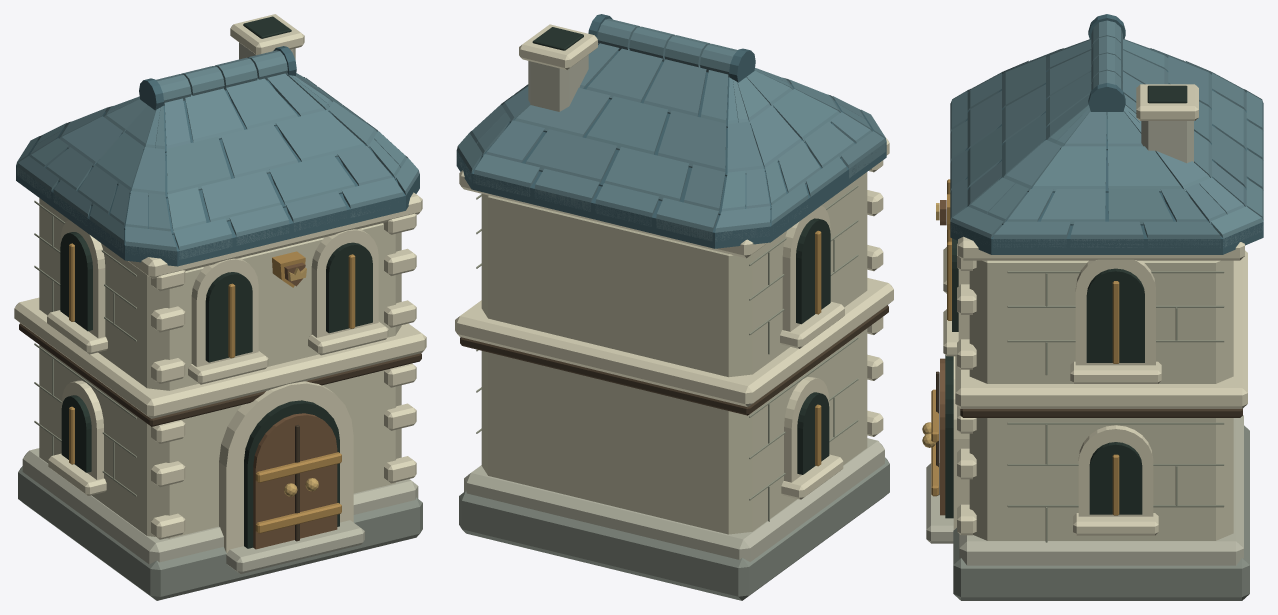
The model's file is house_2.glb.
3 views of the same model, side by side, from view 1: azimuth 30°, elevation 25°; view 2: azimuth 150°, elevation 25°; view 3: azimuth 270°, elevation 25° (orthographic). The views are drawn at different scales.
Visible parts, largest first — view 1: Stone, Roof, Timber, Metal; view 2: Stone, Roof, Timber, Metal; view 3: Stone, Roof, Timber, Metal.
Part boxes in pixels (x1,y1,x2,y2): Stone: (14,14,426,600); Roof: (16,46,419,266); Timber: (19,262,421,549); Metal: (69,243,355,533); Stone: (455,24,893,600); Roof: (456,14,886,248); Timber: (460,305,888,415); Metal: (815,230,821,466); Stone: (926,84,1249,600); Roof: (950,14,1263,254); Timber: (936,200,1242,515); Metal: (922,179,1119,515).
Size of the model in its own units: 2.7 by 3.98 by 2.55.
